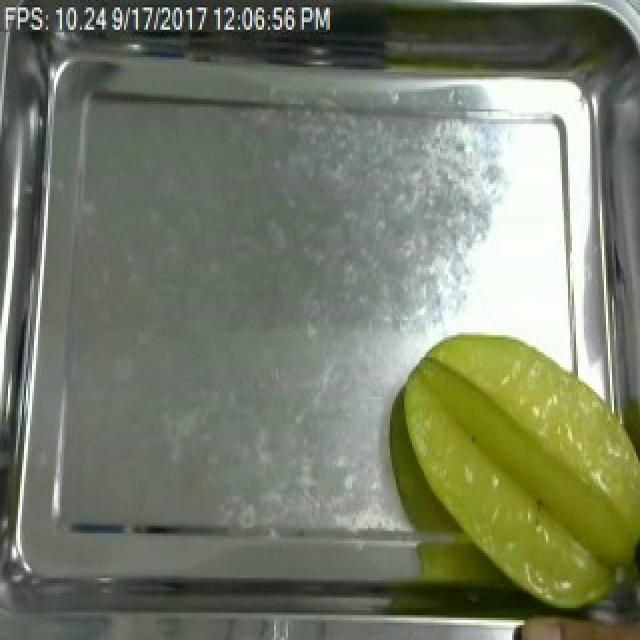fruit: (386, 325, 640, 625)
